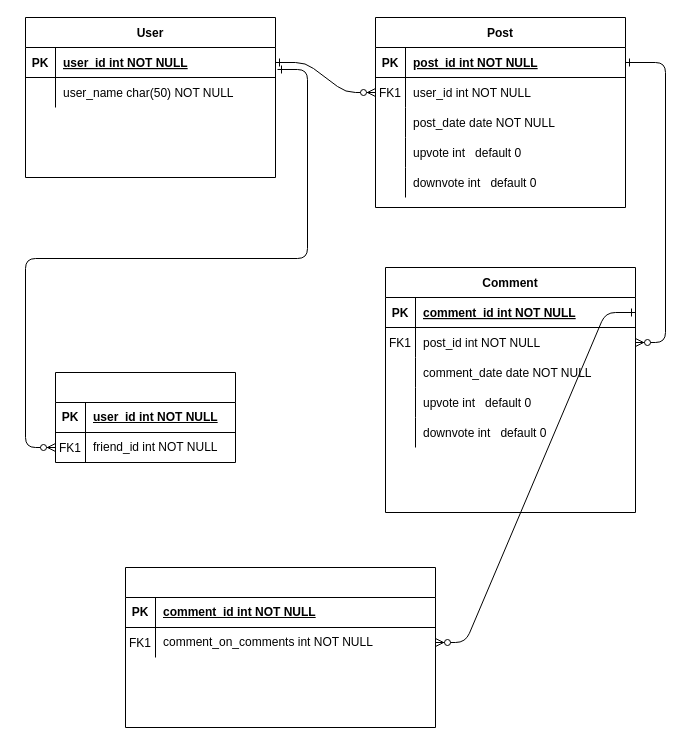
The diagram is 692 pixels wide and 745 high, and some of its shapes have lost their labels. Each missing label, with the box of its shape:
Friends: (54, 372, 236, 462)
Table: (124, 566, 436, 728)
